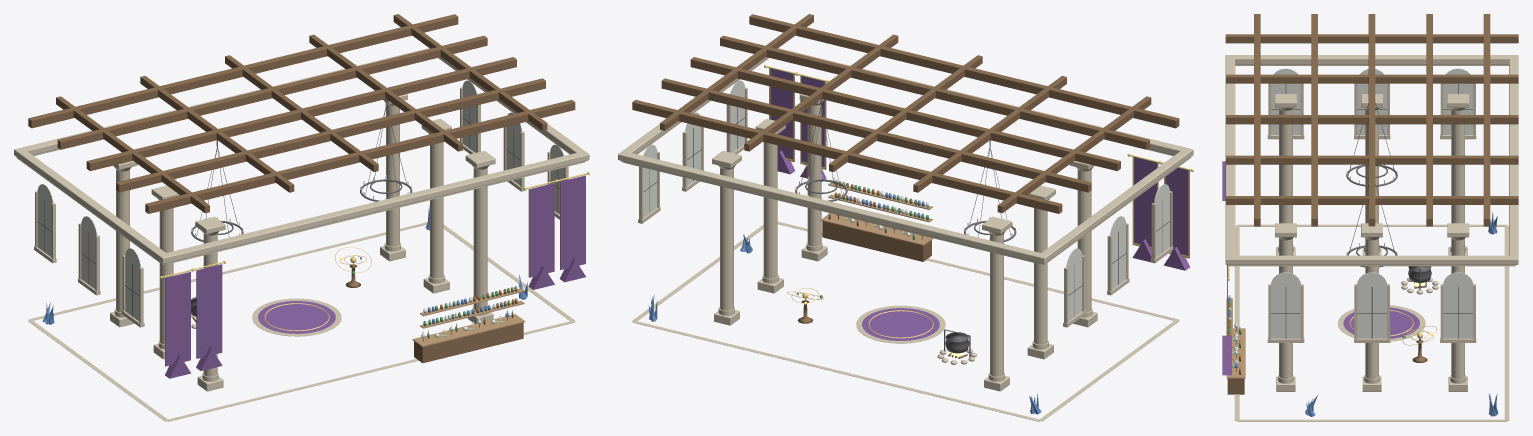
File: guild_transmuters.glb
3 views of the same model, side by side, from view 1: azimuth 30°, elevation 25°; view 2: azimuth 150°, elevation 25°; view 3: azimuth 270°, elevation 25° (orthographic).
Parts seen in each view (by area): view 1: guild_transmuters; view 2: guild_transmuters; view 3: guild_transmuters.
Boxes of the visible parts, x1,y1,x2,y2 form: guild_transmuters: (14,14,589,421); guild_transmuters: (618,14,1193,421); guild_transmuters: (1222,14,1518,421).
Bounding box in the file's own units: 25.46 × 11.99 × 15.47.
